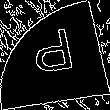P_S: (29, 26, 81, 84)
